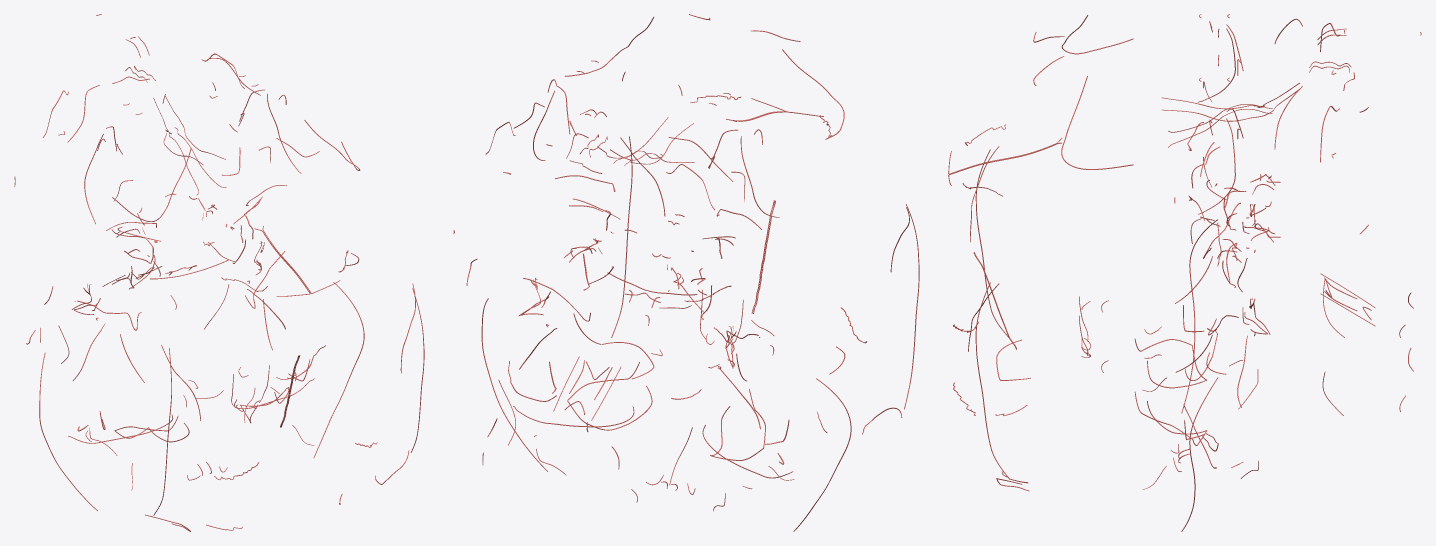
3 renders of one model, left to right at view 1: azimuth 30°, elevation 25°; view 2: azimuth 150°, elevation 25°; view 3: azimuth 270°, elevation 25°, orthographic. The views are drawn at different scales.
Bounding box in the file's own units: 150 × 172 × 167.
